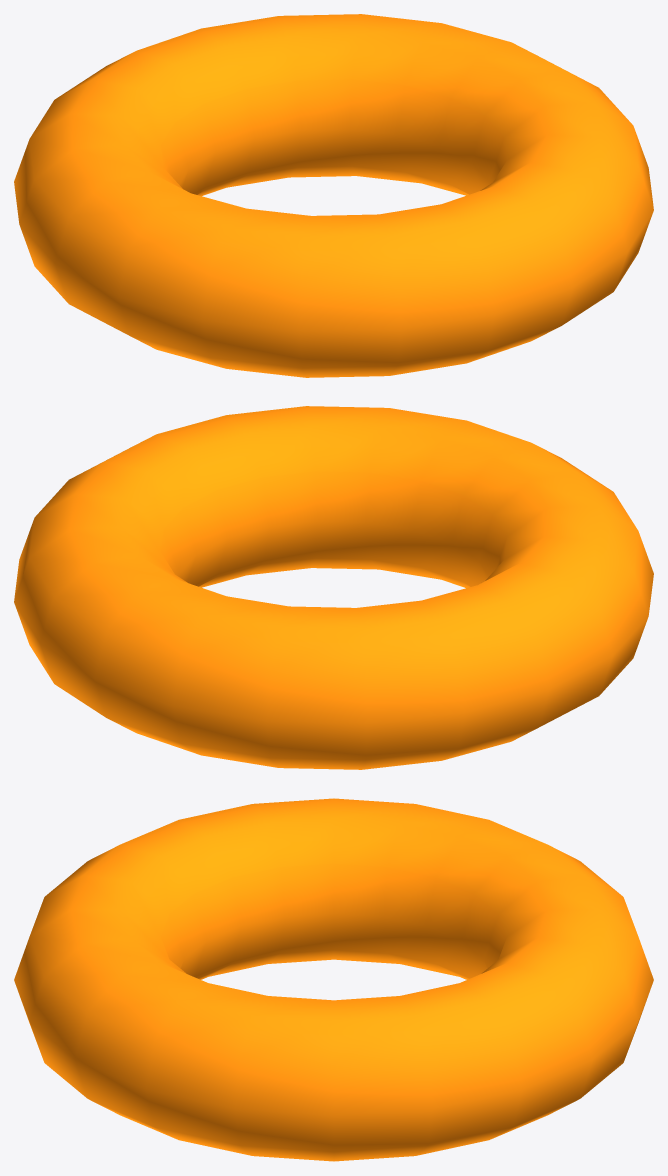
File: BaseToroids.002.glb
3 views of the same model, one above another, from view 1: azimuth 30°, elevation 25°; view 2: azimuth 150°, elevation 25°; view 3: azimuth 270°, elevation 25° (orthographic).
Parts seen in each view (by area): view 1: BaseToroids.002; view 2: BaseToroids.002; view 3: BaseToroids.002.
Part boxes in pixels (x1,y1,x2,y2): BaseToroids.002: (14, 14, 653, 377); BaseToroids.002: (14, 406, 653, 769); BaseToroids.002: (14, 798, 653, 1161).
Size of what is drawn, in the model's own units: 0.9438 by 0.2278 by 0.9438.
1 material, 1 textured.
